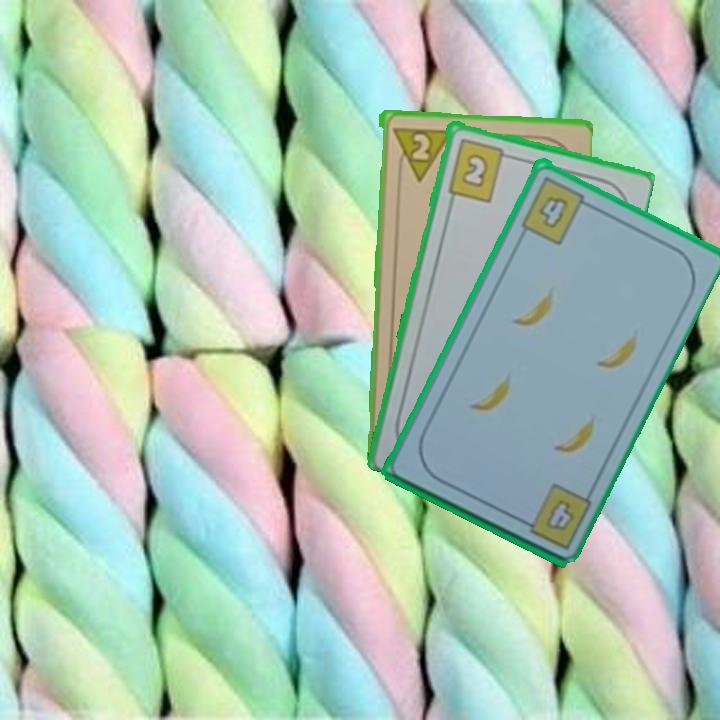2b: (444, 134, 515, 204)
2p: (387, 122, 451, 184)
4b: (513, 479, 594, 552), (517, 172, 595, 247)
